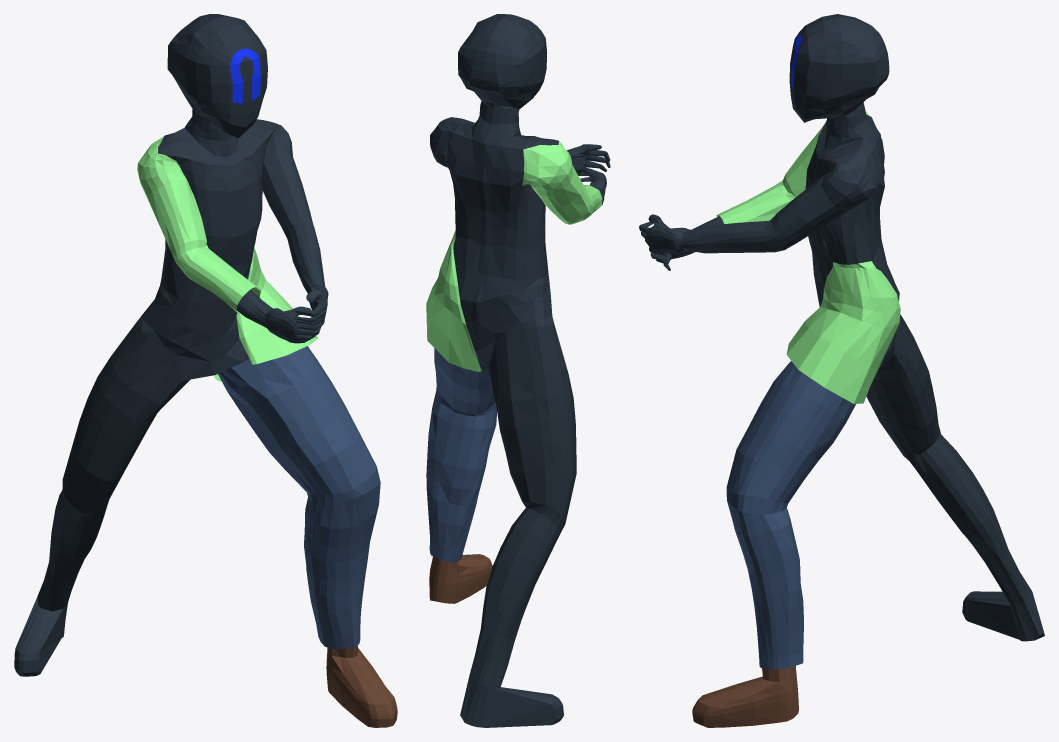
File: Mar_WL_000018.obj
3 views of the same model, side by side, from view 1: azimuth 30°, elevation 25°; view 2: azimuth 150°, elevation 25°; view 3: azimuth 270°, elevation 25° (orthographic). The views are drawn at different scales.
Visible parts, largest first — view 1: Cube.000_Cube.001; view 2: Cube.000_Cube.001; view 3: Cube.000_Cube.001.
Part boxes in pixels (x1,y1,x2,y2): Cube.000_Cube.001: (14, 14, 397, 727); Cube.000_Cube.001: (426, 14, 610, 727); Cube.000_Cube.001: (639, 14, 1044, 727).
Bounding box in the file's own units: 1.41 × 3.72 × 2.07.
